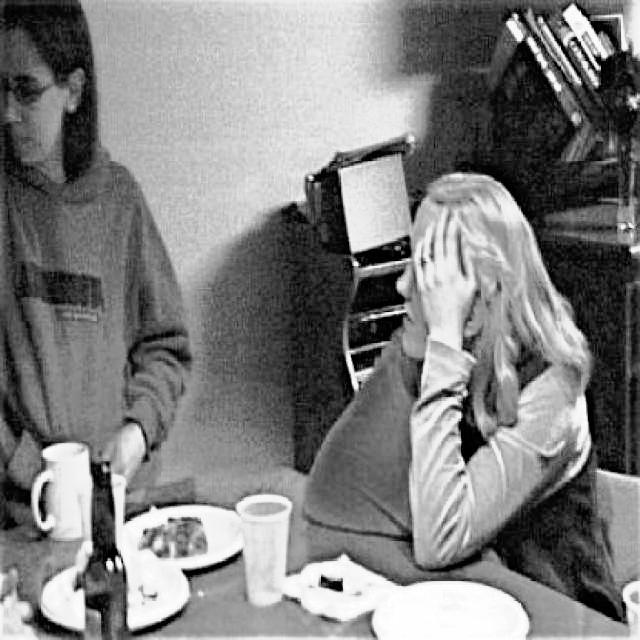Person: (0, 0, 198, 523), (383, 168, 626, 570)
